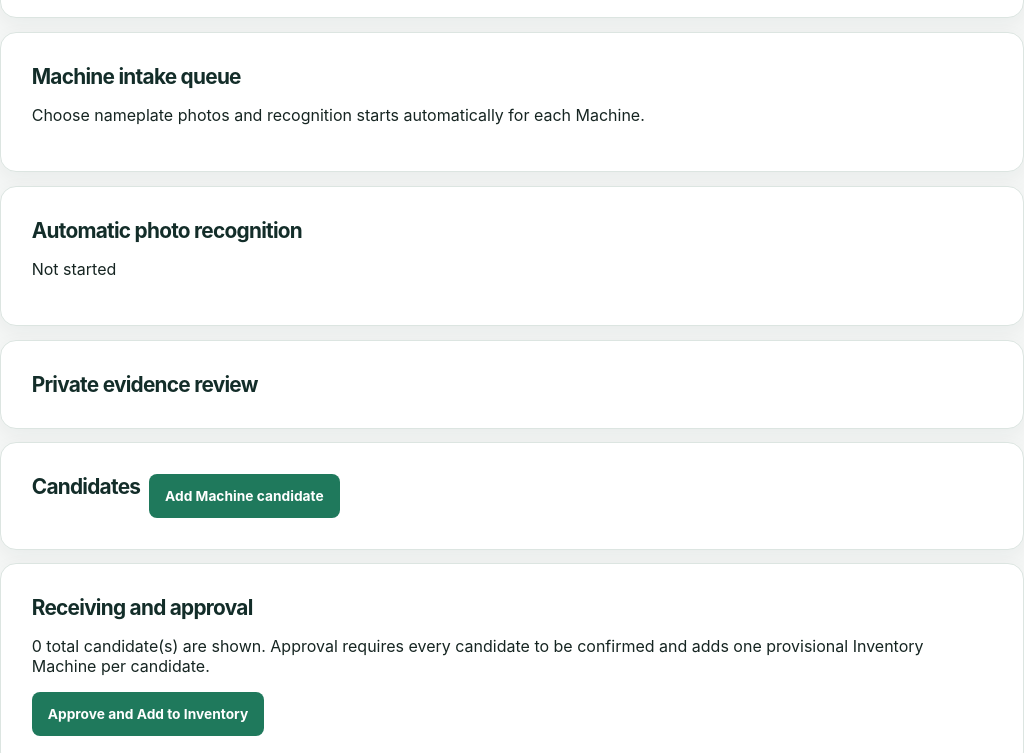
Test: Intake review UI › keeps an open batch without Machines when approval is rejected
The image size is (1024, 753).
(page scrolled)
Click the button "Approve and Add to Inventory".
click(148, 714)  # box [32,692,264,736]
(page scrolled)
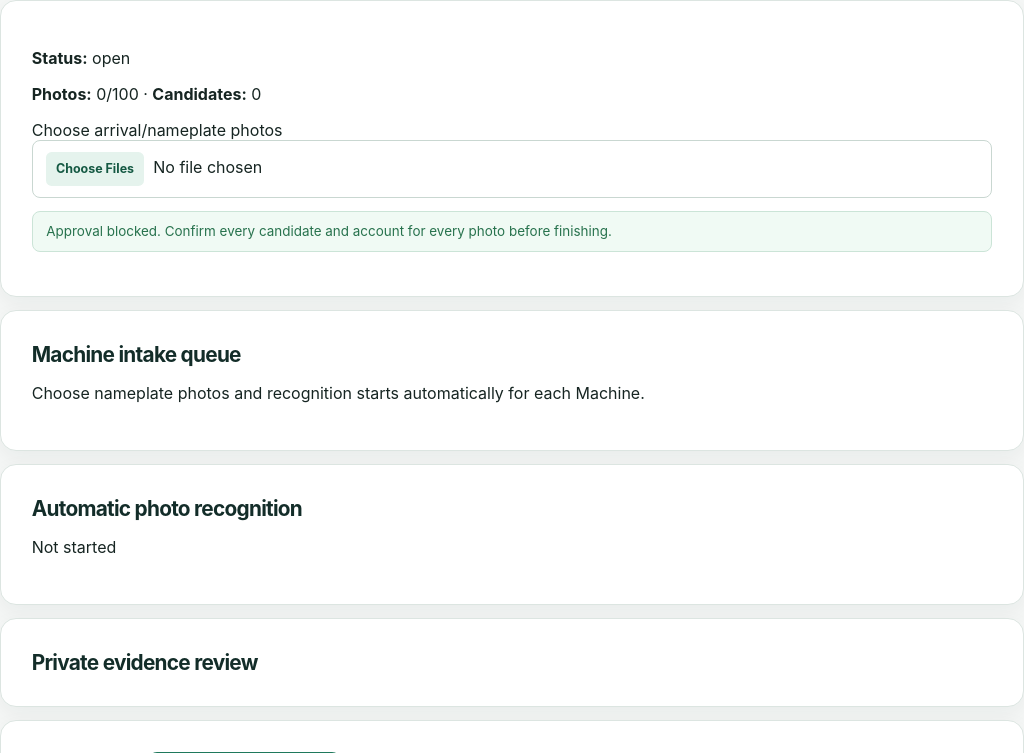
Expected: the text "open" is shown, [92,48,130,68]
Now the text "Approval blocked. Confirm every candidate and account for every photo before finishing." is shown, box [46,223,612,239]
